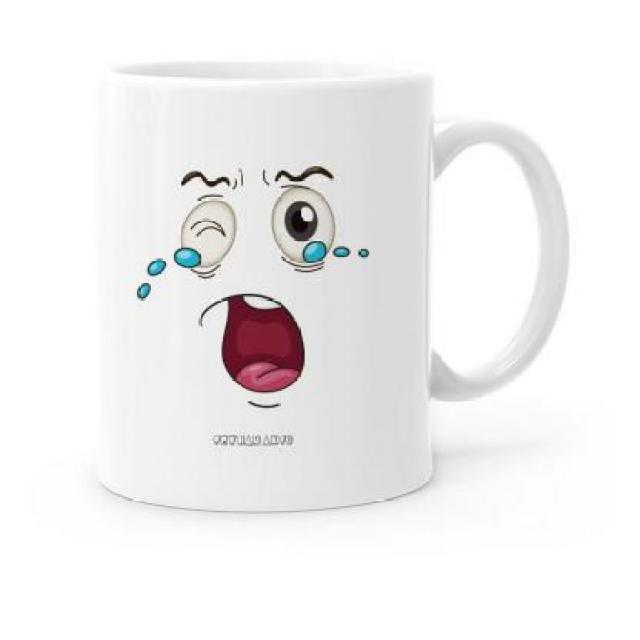taza: (76, 61, 573, 516)
